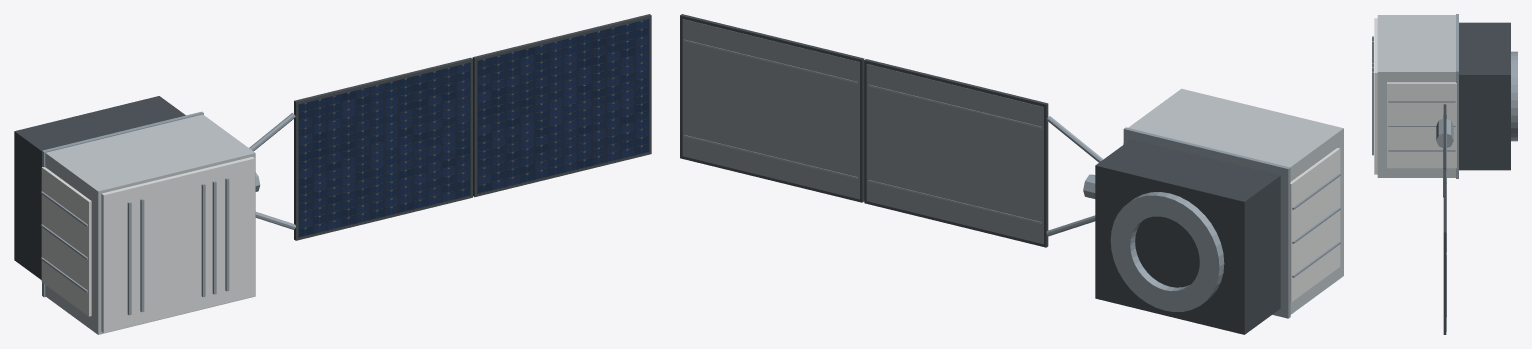
Rendered from ref-angels-40101.glb.
3 renders of one model, left to right at view 1: azimuth 30°, elevation 25°; view 2: azimuth 150°, elevation 25°; view 3: azimuth 270°, elevation 25°, orthographic. The views are drawn at different scales.
Parts seen in each view (by area): view 1: Solar cell panel (×2), Earth-facing deck, Payload module, Service module, Radiator face, Solar panel frame (×2), Deck heat pipe (×5), Module interface; view 2: Rear array substrate (×2), Service module, Payload module, Launch adapter ring, Radiator face, Solar panel frame (×2), Module interface; view 3: Service module, Payload module, Radiator face, Solar panel frame (×2), Launch adapter ring, Earth-facing deck, Module interface, Array drive, Radiator seam (×2), Deck heat pipe, Rear array substrate.
Boxes of the visible parts, box(x1,y1,x2,y2) form: Solar cell panel (×2): box(298, 19, 649, 237); Earth-facing deck: box(101, 156, 254, 332); Payload module: box(45, 114, 255, 334); Service module: box(14, 96, 185, 279); Radiator face: box(41, 167, 91, 316); Solar panel frame (×2): box(294, 14, 651, 240); Deck heat pipe (×5): box(127, 178, 229, 315); Module interface: box(42, 111, 203, 297); Rear array substrate (×2): box(682, 19, 1043, 244); Service module: box(1095, 139, 1280, 334); Payload module: box(1128, 88, 1343, 314); Launch adapter ring: box(1110, 192, 1224, 312); Radiator face: box(1289, 148, 1340, 302); Solar panel frame (×2): box(680, 14, 1048, 247); Module interface: box(1123, 127, 1290, 318); Service module: box(1459, 22, 1510, 170); Payload module: box(1377, 15, 1455, 177); Radiator face: box(1387, 82, 1456, 168); Solar panel frame (×2): box(1443, 104, 1446, 334); Launch adapter ring: box(1511, 51, 1517, 141); Earth-facing deck: box(1374, 18, 1377, 174); Module interface: box(1456, 14, 1458, 178); Array drive: box(1436, 119, 1453, 147); Radiator seam (×2): box(1388, 101, 1455, 151); Deck heat pipe: box(1372, 71, 1373, 155); Rear array substrate: box(1446, 172, 1446, 331).
Bounding box in the file's own units: 1.91 × 0.4402 × 0.5417.
Materials: 6 (1 with a texture image).
